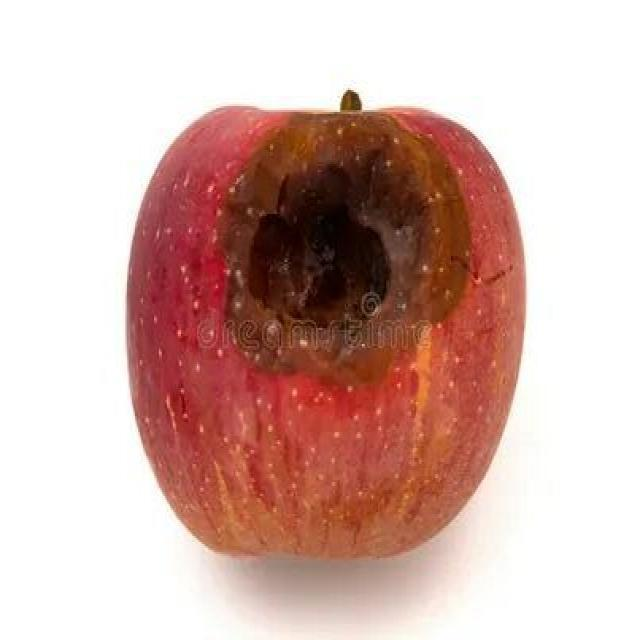Rotten: (125, 105, 515, 568)
